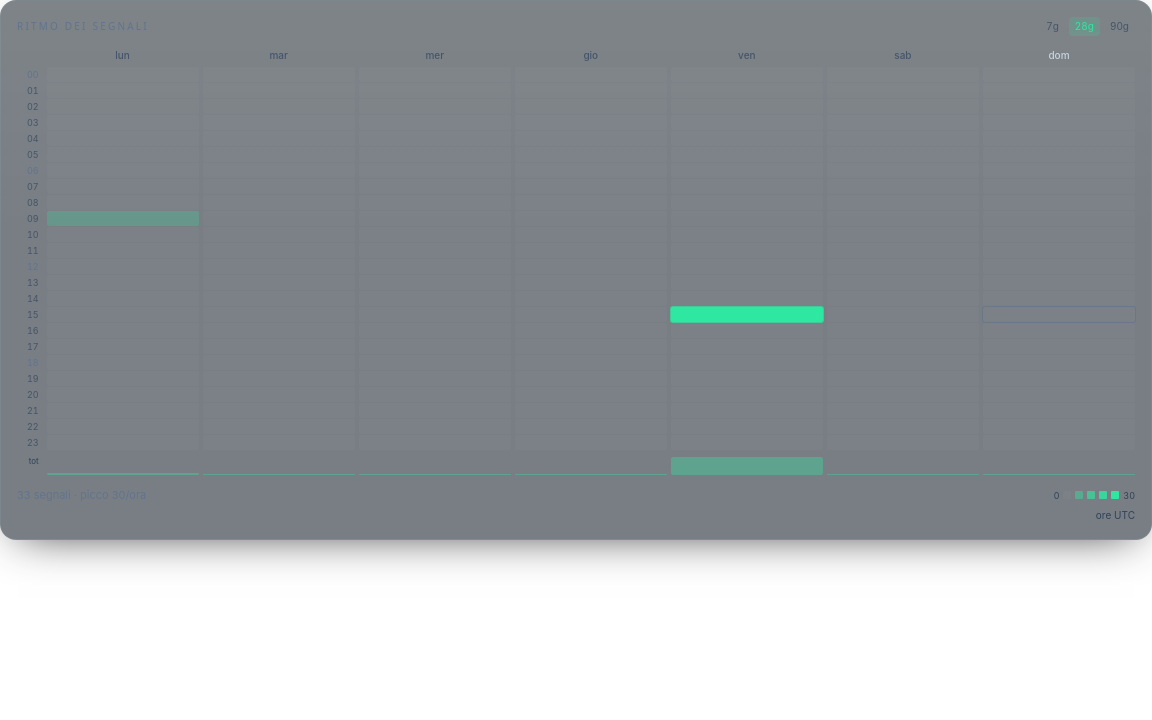
SignalRhythm › mostra totale e picco, e li sostituisce col dettaglio al passaggio
Step 1. Hover over the button named "ven ore 15: 30 segnali" → (747, 314), box [671,307,823,322]
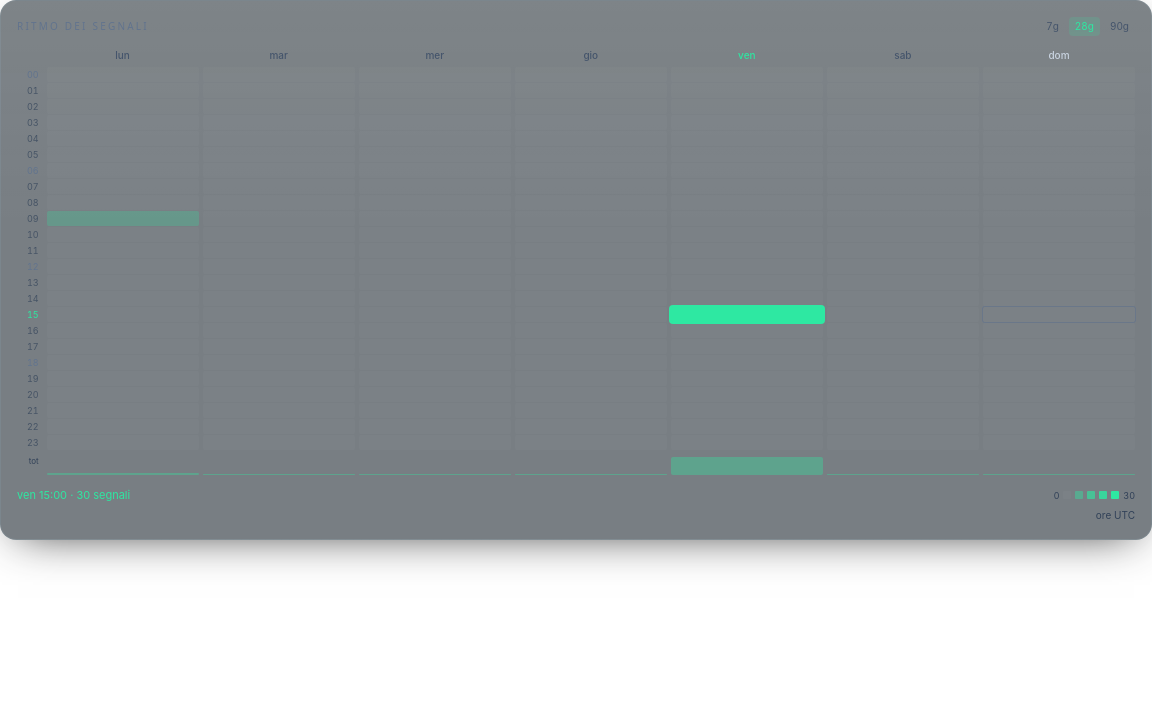
Result: the text "ven 15:00 · 30 segnali" is shown at [17,488,130,502]
